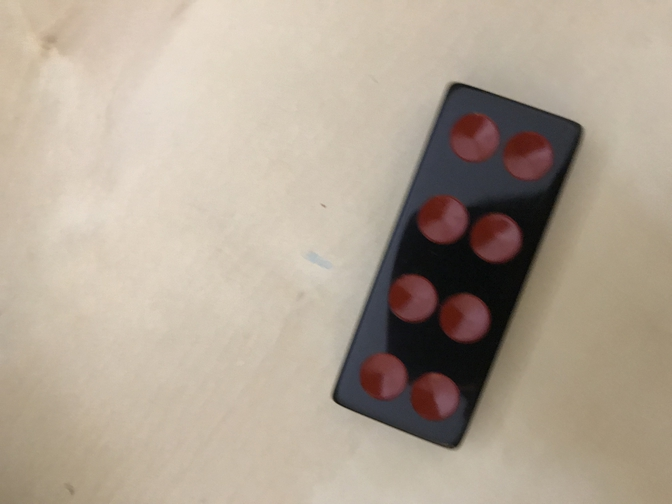man: (331, 80, 583, 449)
